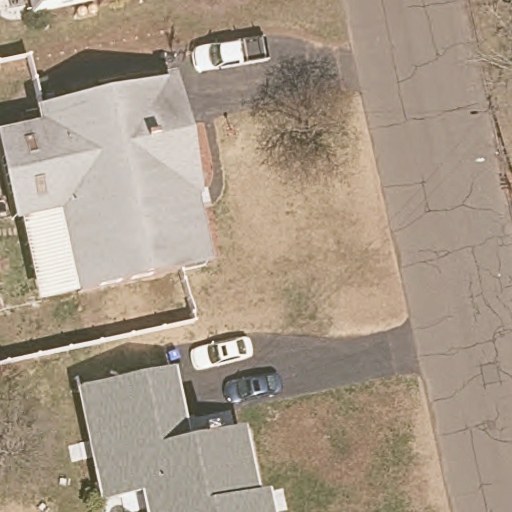DT: (474, 145, 512, 188)
